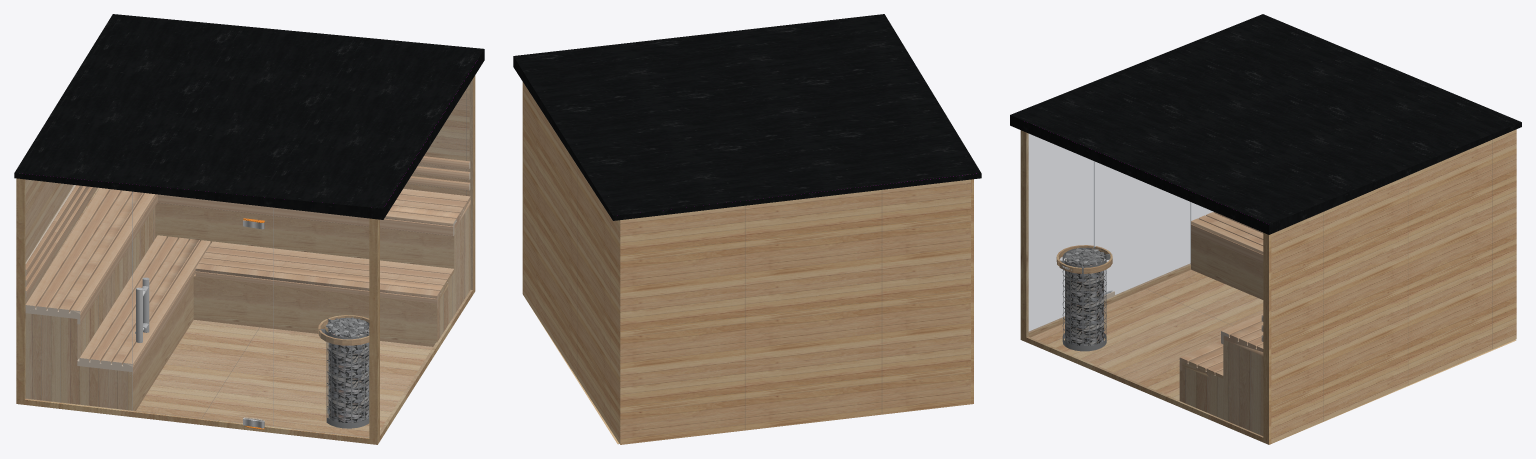
Rendered from modelo.glb.
The picture shows the model from 3 angles, left to right: view 1: azimuth 30°, elevation 25°; view 2: azimuth 150°, elevation 25°; view 3: azimuth 270°, elevation 25°; orthographic projection. The views are drawn at different scales.
Visible parts, largest first — view 1: Geom3D (×23), Geom3D_ (×2); view 2: Geom3D (×3), Geom3D_; view 3: Geom3D (×16), Geom3D_ (×2).
Boxes of the visible parts, x1,y1,x2,y2 form: Geom3D (×23): (14,14,484,444); Geom3D_ (×2): (14,49,484,410); Geom3D (×3): (513,14,980,444); Geom3D_: (513,56,981,220); Geom3D (×16): (1010,14,1521,444); Geom3D_ (×2): (1010,115,1521,435).
Size of the model in its own units: 4.35 by 2.11 by 4.35.
25 materials, 18 textured.
